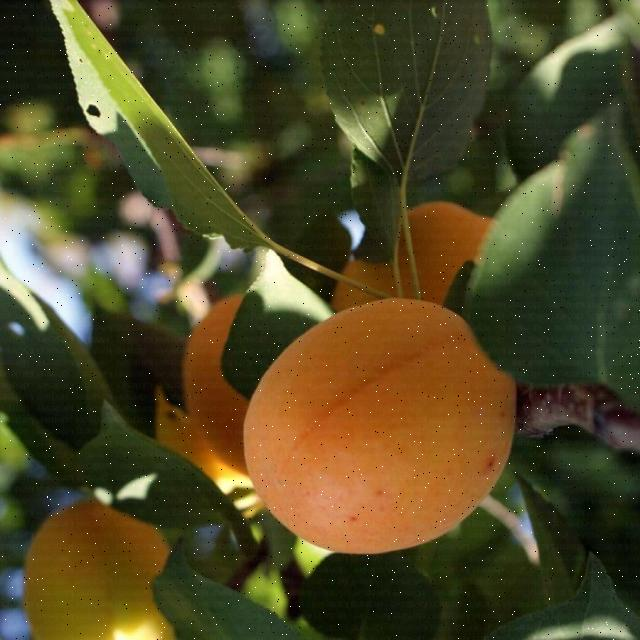kayisi: (245, 302, 519, 562), (20, 511, 182, 640)
kayisi yapragi: (19, 0, 268, 257), (478, 128, 632, 400), (314, 0, 497, 195), (69, 410, 237, 540), (524, 415, 637, 566), (141, 541, 306, 640), (302, 556, 439, 640), (499, 560, 640, 640), (334, 149, 405, 274)
